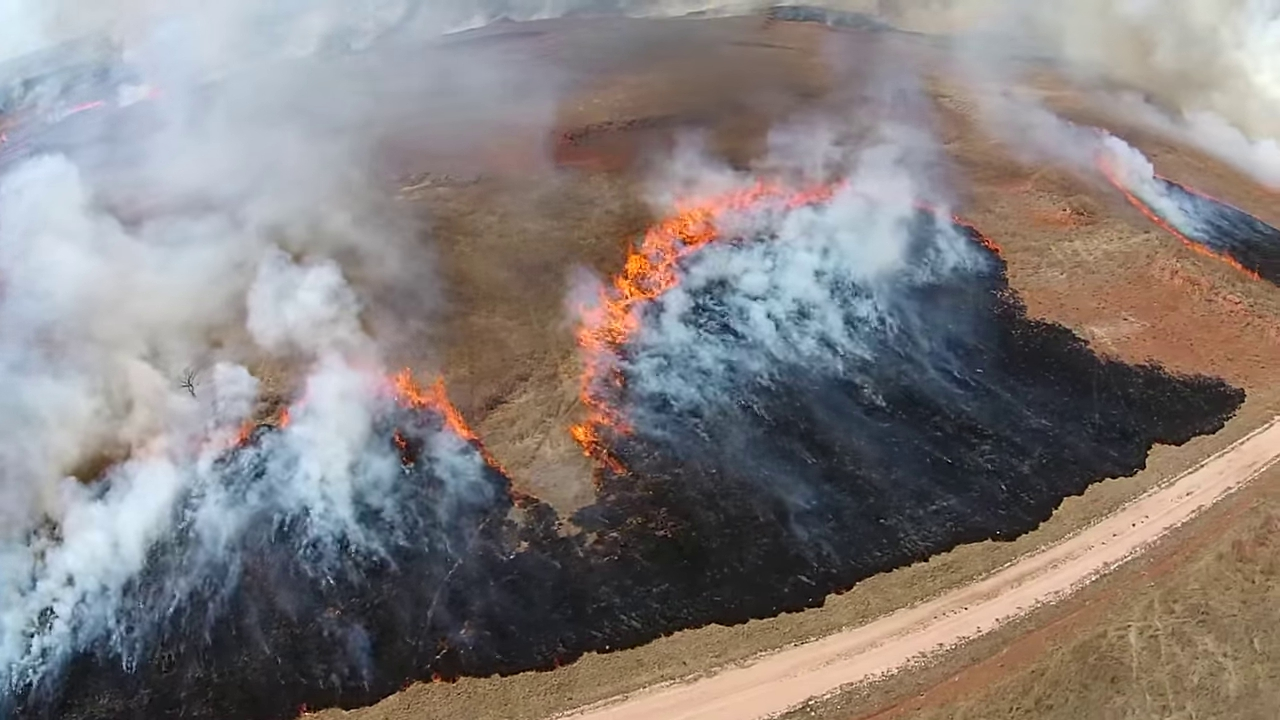forest_fire: (571, 184, 840, 469), (391, 368, 478, 441)
